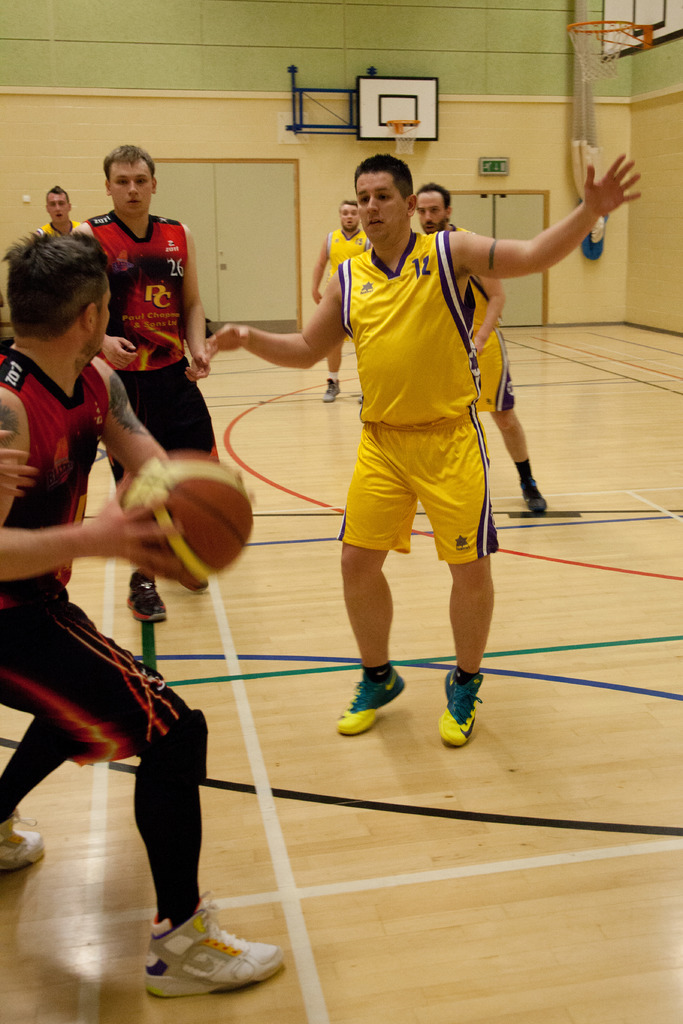Ball: (124, 449, 253, 560)
